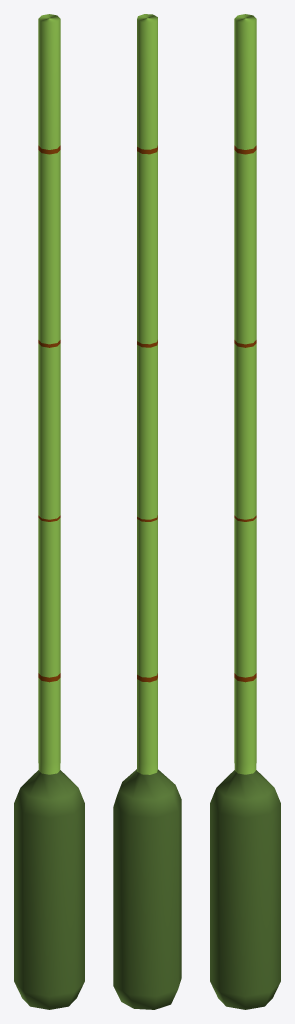
The model's file is Kurung-kurung_MTriyudhaRamadhani.fbx.
The picture shows the model from 3 angles, left to right: view 1: azimuth 90°, elevation 25°; view 2: azimuth 150°, elevation 25°; view 3: azimuth 270°, elevation 25°; orthographic projection.
Visible parts, largest first — view 1: Cylinder.007; view 2: Cylinder.007; view 3: Cylinder.007.
Boxes of the visible parts, bbox=[...] form: Cylinder.007: bbox=[14, 14, 84, 1009]; Cylinder.007: bbox=[113, 14, 181, 1009]; Cylinder.007: bbox=[210, 14, 280, 1009].
Bounding box in the file's own units: 39.63 × 604 × 39.63.
